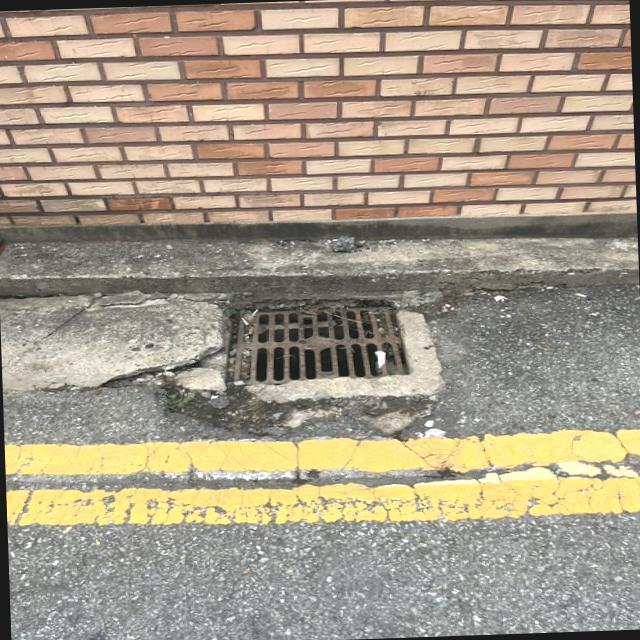drain_area: (255, 310, 402, 383)
drain_full: (227, 307, 409, 383)
